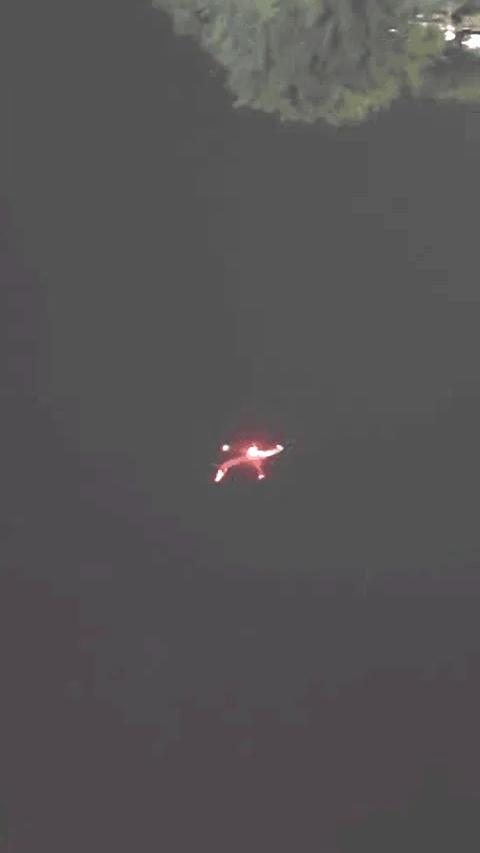Plane: (180, 387, 316, 524)
